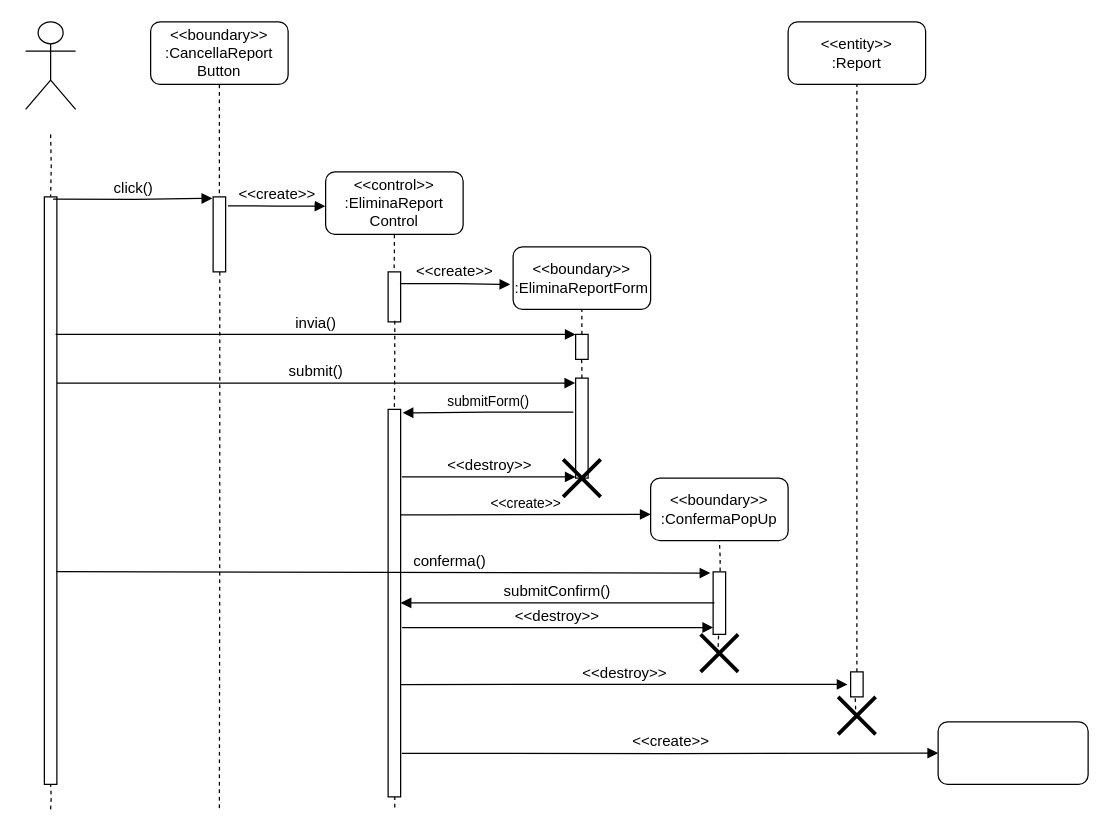
Image size: 1110x833. Some labels were removed from this diagram. The shapes that lost their labels are listed below. From the top down, each one's centre as x and y in pixels, then its label:
At point (50, 65): "Direttore".
At point (1012, 752): "<<boundary>> :AvvisoEliminaReport".
